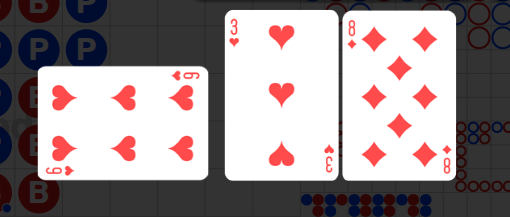3H: (322, 142, 335, 173)
6H: (45, 164, 77, 176)
8D: (441, 142, 452, 175)
